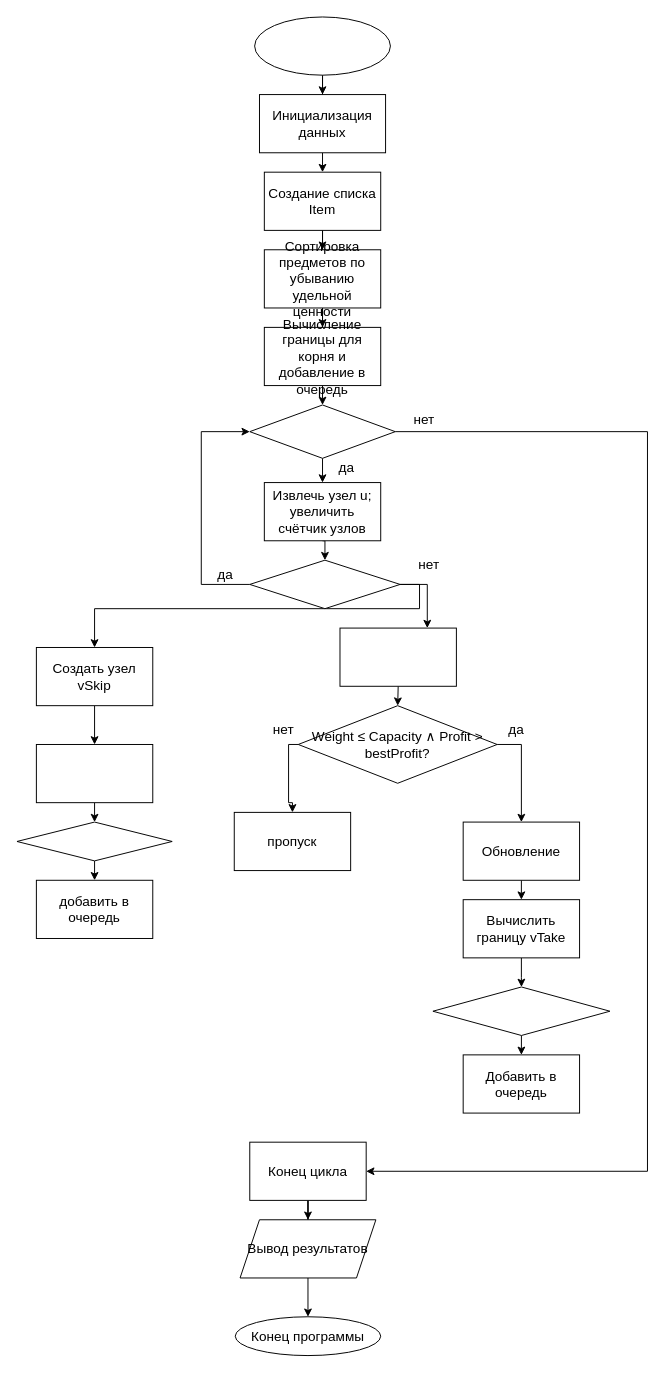
Image size: 672x1373. Some labels were removed from this diagram. Each missing label, with the centre of its shape:
"Bound > bestProfit?" belongs at point (521, 1010).
"u.Level == M - 1?" belongs at point (324, 584).
"Вычислить Bound(vSkip)" belongs at point (94, 773).
"Если Bound > bestProfit" belongs at point (94, 841).
"Начало" belongs at point (322, 45).
"Очередь не пуста?" belongs at point (322, 431).
"Создать узел vTake" belongs at point (397, 656).
